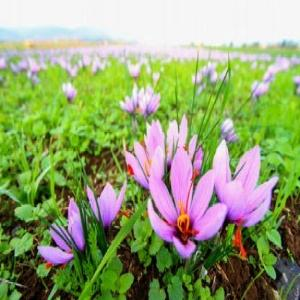Saffron: (151, 157, 217, 260), (211, 136, 269, 231), (85, 177, 134, 242), (38, 211, 92, 257)
